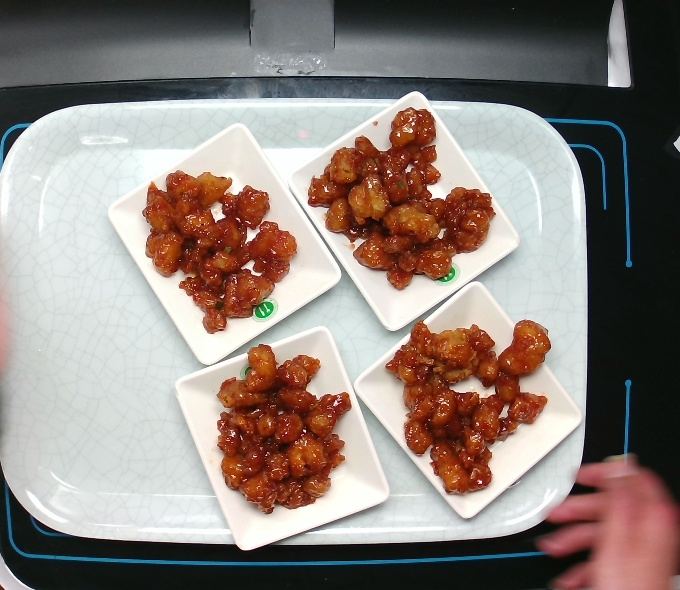wcq-TangCuPaiGu: (305, 100, 494, 292), (381, 308, 562, 497), (135, 164, 300, 335), (208, 342, 361, 523)
